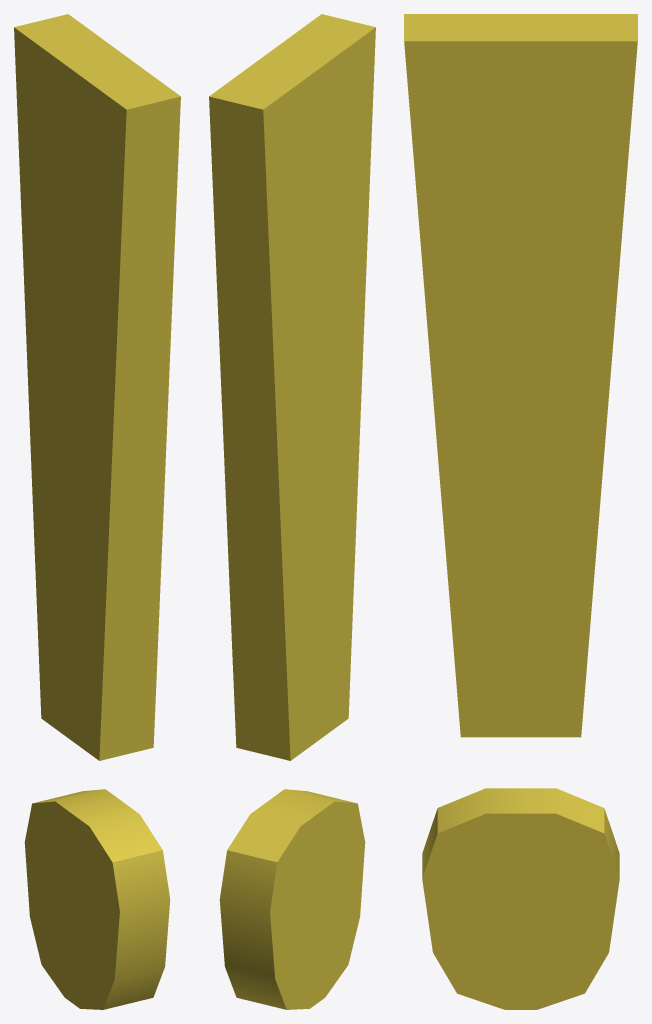
File: QuestMarkerStart.fbx
The picture shows the model from 3 angles, left to right: view 1: azimuth 30°, elevation 25°; view 2: azimuth 150°, elevation 25°; view 3: azimuth 270°, elevation 25°; orthographic projection. The views are drawn at different scales.
Visible parts, largest first — view 1: QuestMarkerStart; view 2: QuestMarkerStart; view 3: QuestMarkerStart.
Boxes of the visible parts, bbox=[...] form: QuestMarkerStart: bbox=[14, 14, 180, 1009]; QuestMarkerStart: bbox=[209, 14, 375, 1009]; QuestMarkerStart: bbox=[404, 14, 637, 1009].
Bounding box in the file's own units: 0.2781 × 4.58 × 1.
Materials: 1 (1 with a texture image).
